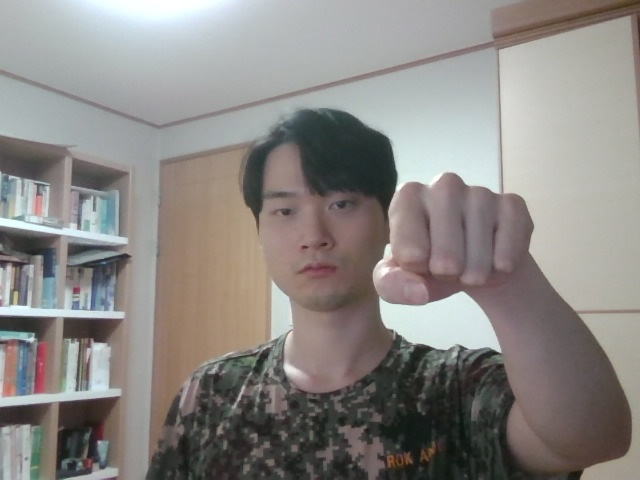yes: (365, 154, 551, 314)
